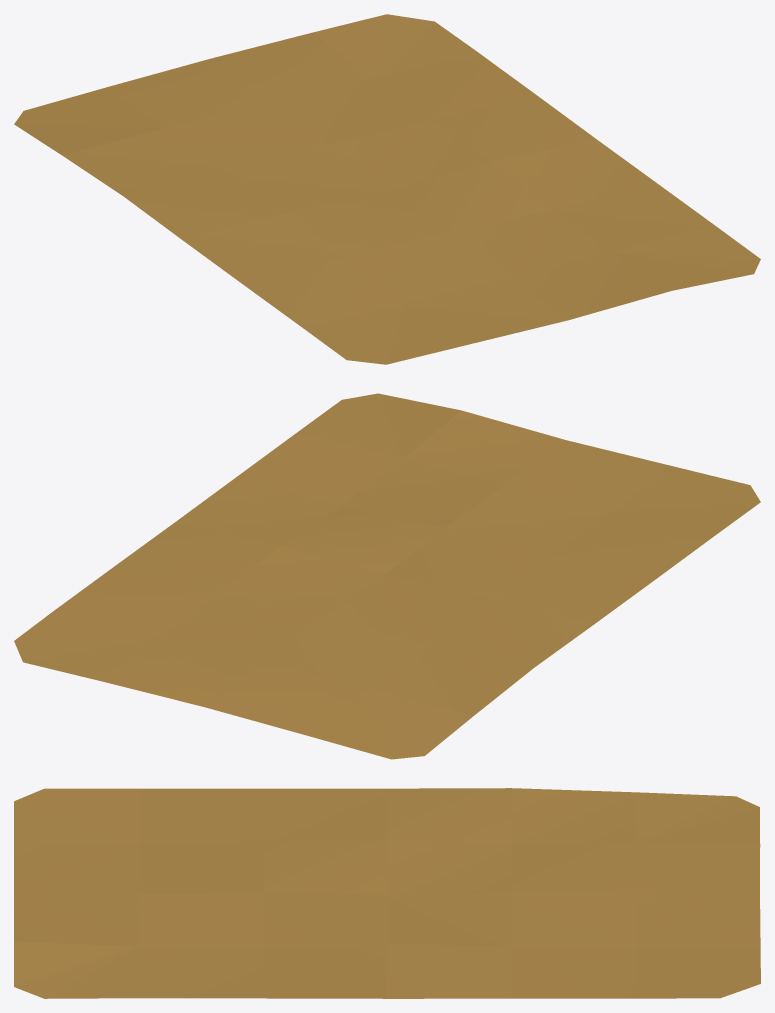
Rendered from TilesGarden.fbx.
3 renders of one model, top to bottom at view 1: azimuth 30°, elevation 25°; view 2: azimuth 150°, elevation 25°; view 3: azimuth 270°, elevation 25°, orthographic. The views are drawn at different scales.
Parts seen in each view (by area): view 1: TileGarden08, TileGarden21, TileGarden03, TileGarden18, TileGarden11, TileGarden20, TileGarden02, TileGarden15, TileGarden16, TileGarden23, TileGarden07, TileGarden12 (+12 smaller); view 2: TileGarden06, TileGarden13, TileGarden12, TileGarden20, TileGarden23, TileGarden17, TileGarden05, TileGarden07, TileGarden04, TileGarden10, TileGarden11, TileGarden16 (+12 smaller); view 3: TileGarden14, TileGarden02, TileGarden09, TileGarden17, TileGarden22, TileGarden10, TileGarden18, TileGarden04, TileGarden19, TileGarden05, TileGarden21, TileGarden15 (+12 smaller).
Part boxes in pixels (box(x1,y1,x2,y2)): TileGarden08: box(345, 231, 508, 303); TileGarden21: box(492, 139, 655, 209); TileGarden03: box(182, 213, 343, 283); TileGarden18: box(210, 32, 373, 102); TileGarden11: box(166, 102, 328, 172); TileGarden20: box(552, 182, 715, 252); TileGarden02: box(242, 258, 404, 326); TileGarden15: box(389, 162, 550, 231); TileGarden16: box(330, 120, 491, 190); TileGarden23: box(375, 51, 535, 120); TileGarden07: box(405, 277, 567, 345); TileGarden12: box(106, 59, 268, 127); TileGarden06: box(308, 688, 472, 759); TileGarden13: box(402, 410, 565, 484); TileGarden12: box(204, 662, 368, 735); TileGarden20: box(236, 433, 401, 505); TileGarden23: box(54, 566, 219, 637); TileGarden17: box(157, 592, 323, 662); TileGarden05: box(369, 645, 533, 716); TileGarden07: box(506, 440, 670, 511); TileGarden04: box(429, 597, 593, 667); TileGarden10: box(324, 574, 488, 644); TileGarden11: box(264, 617, 428, 688); TileGarden16: box(220, 546, 383, 617); TileGarden14: box(137, 892, 263, 948); TileGarden02: box(138, 788, 263, 842); TileGarden09: box(263, 839, 387, 895); TileGarden17: box(511, 894, 635, 949); TileGarden22: box(387, 944, 511, 998); TileGarden10: box(387, 839, 511, 895); TileGarden18: box(636, 894, 760, 949); TileGarden04: box(387, 788, 511, 843); TileGarden19: box(14, 942, 137, 998); TileGarden05: box(511, 788, 635, 843); TileGarden21: box(262, 944, 387, 998); TileGarden15: box(263, 892, 387, 948).
Bounding box in the file's own units: 801 × 21.82 × 1202.
1 material, 1 textured.
